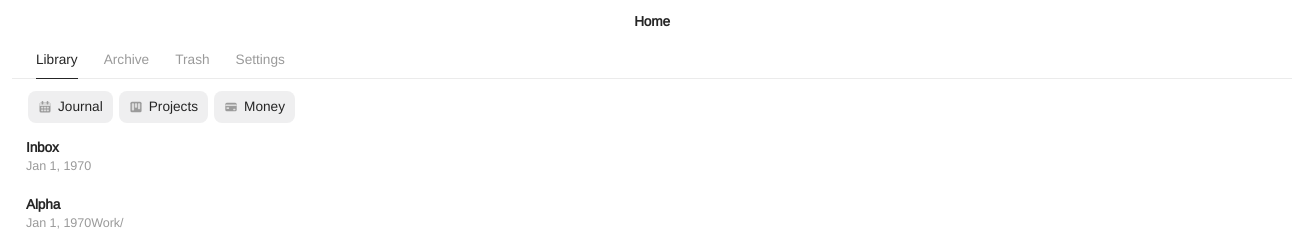
Scenario: HomePage › restores a trashed note from the Trash tab
The width and height of the screenshot is (1304, 246).
Step 1. Click the tab "Trash" → coordinates (192, 60), box left=163, top=42, right=222, bottom=78
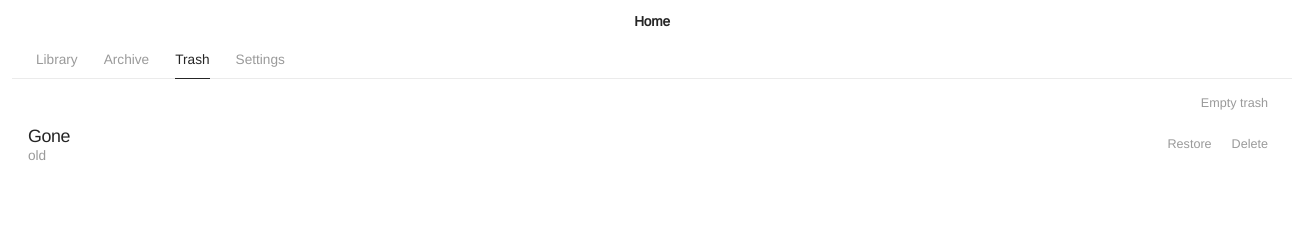
expect the text "Gone" is shown: met, box left=28, top=126, right=70, bottom=146
Step 2. Click the button "Restore" → coordinates (1190, 144), box left=1160, top=130, right=1220, bottom=158
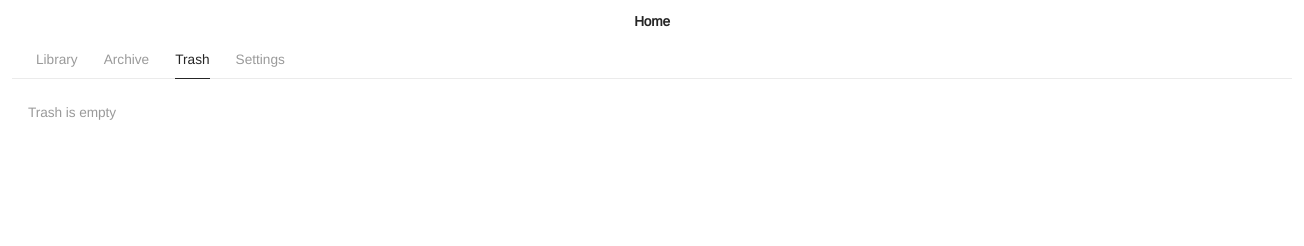
expect the text "Gone" is gone: met
expect the text "Trash is empty" is shown: met, box left=28, top=104, right=116, bottom=120
